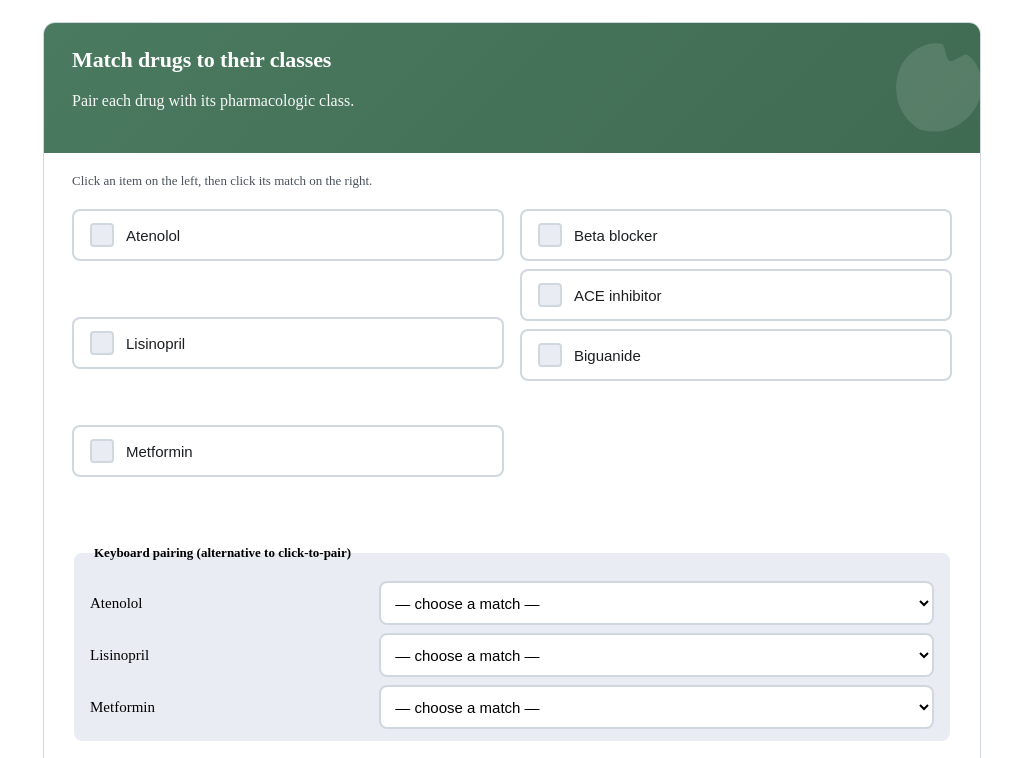
MatchingPairs › reveals the correct partner for incorrect pairings on submit
Two wrong pairings:
Select "ACE inhibitor" in the dropdown labelled "Atenolol" at point(657, 603), box [379,581,934,625]
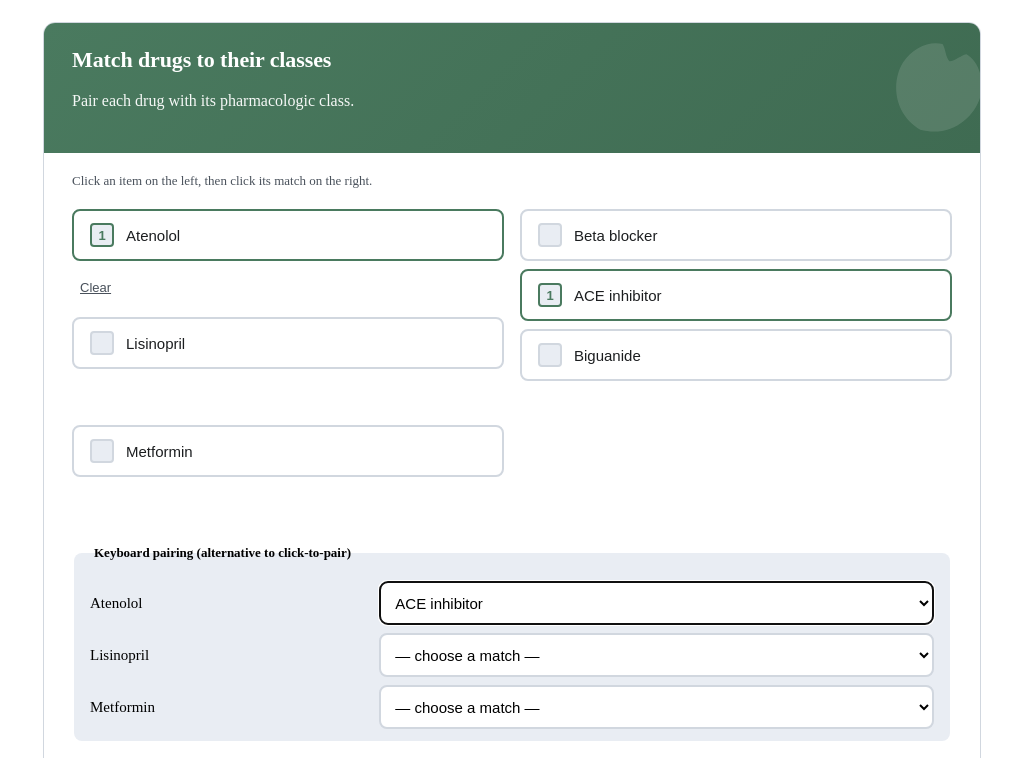
Select "Beta blocker" in the dropdown labelled "Lisinopril" at point(657, 655), box [379,633,934,677]
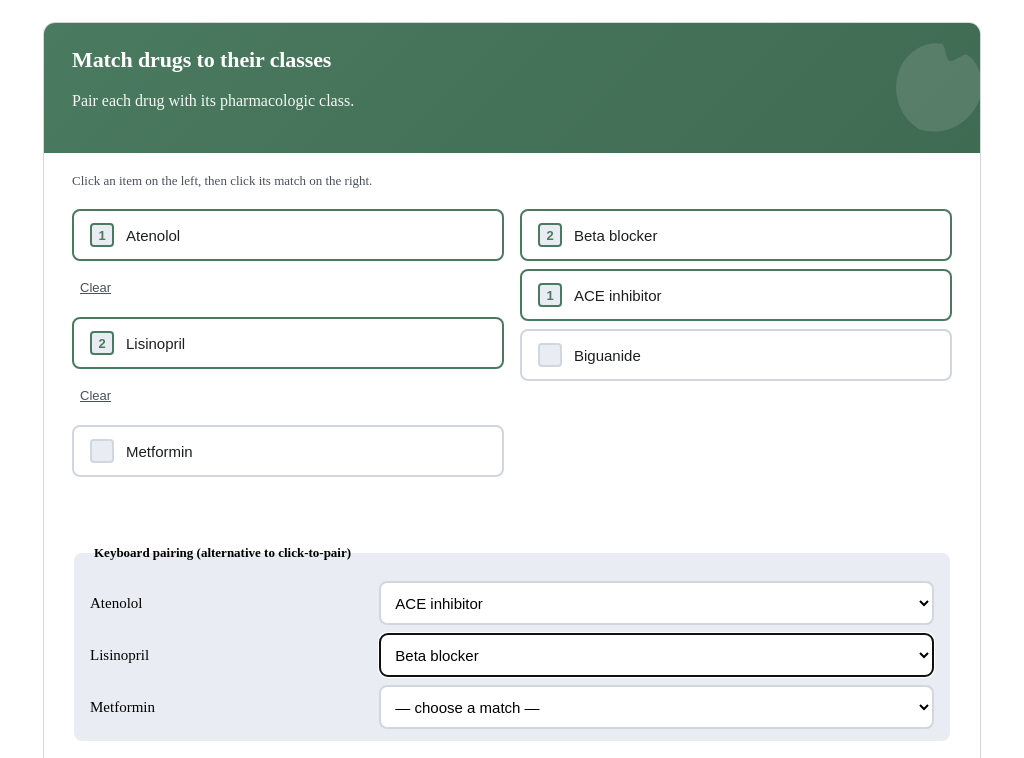
Select "Biguanide" in the dropdown labelled "Metformin" at point(657, 707), box [379,685,934,729]
(page scrolled)
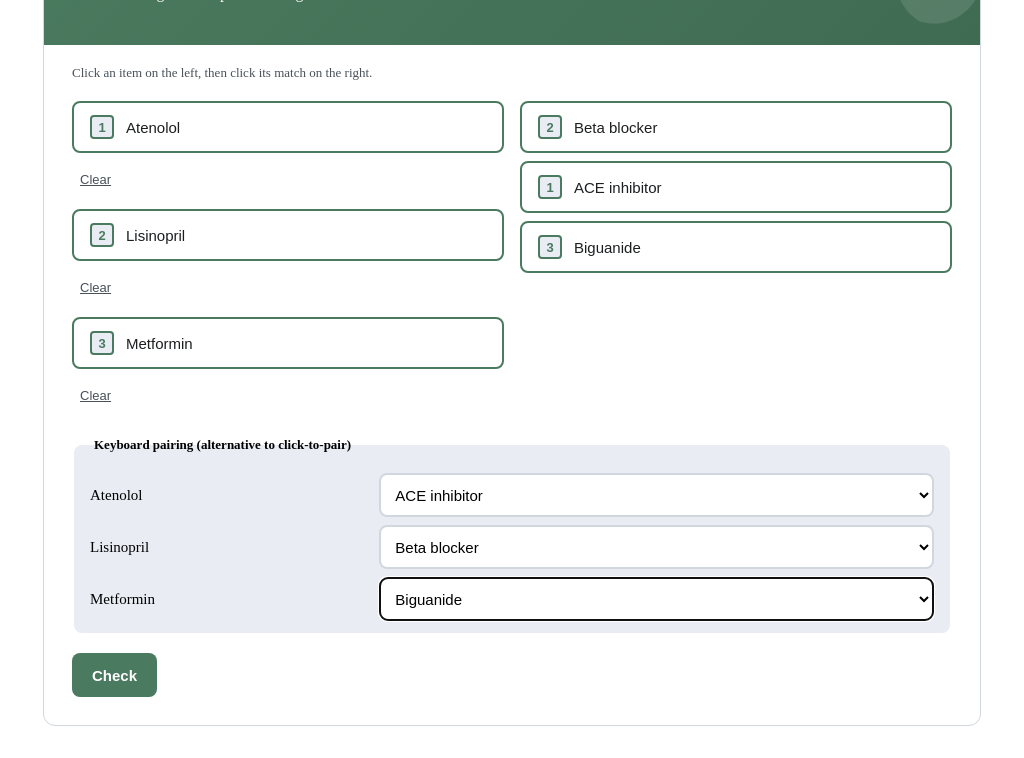
Click the button "Check" at point(114, 675), box [72,653,157,697]
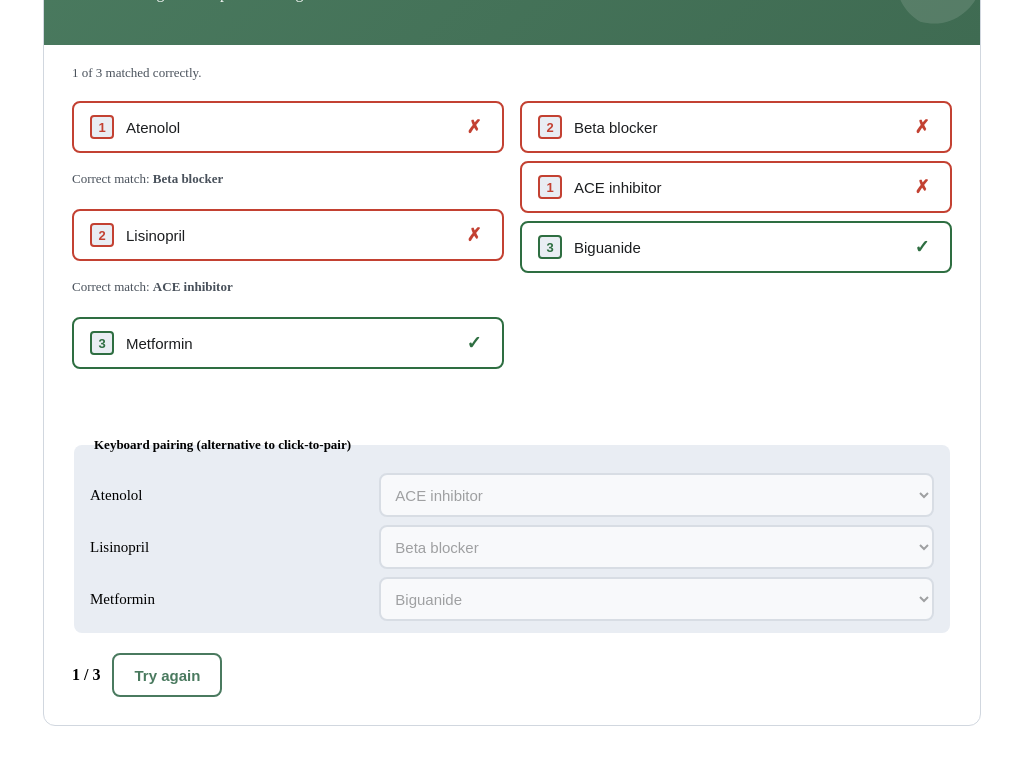
expect the 2nd text "Beta blocker" is shown: met, box [153,171,223,186]
expect the 2nd text "ACE inhibitor" is shown: met, box [153,279,233,294]
